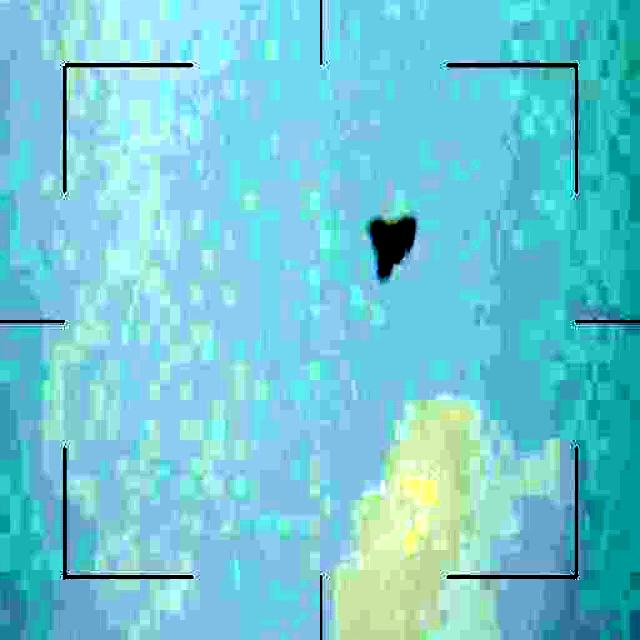bird: (368, 215, 420, 289)
